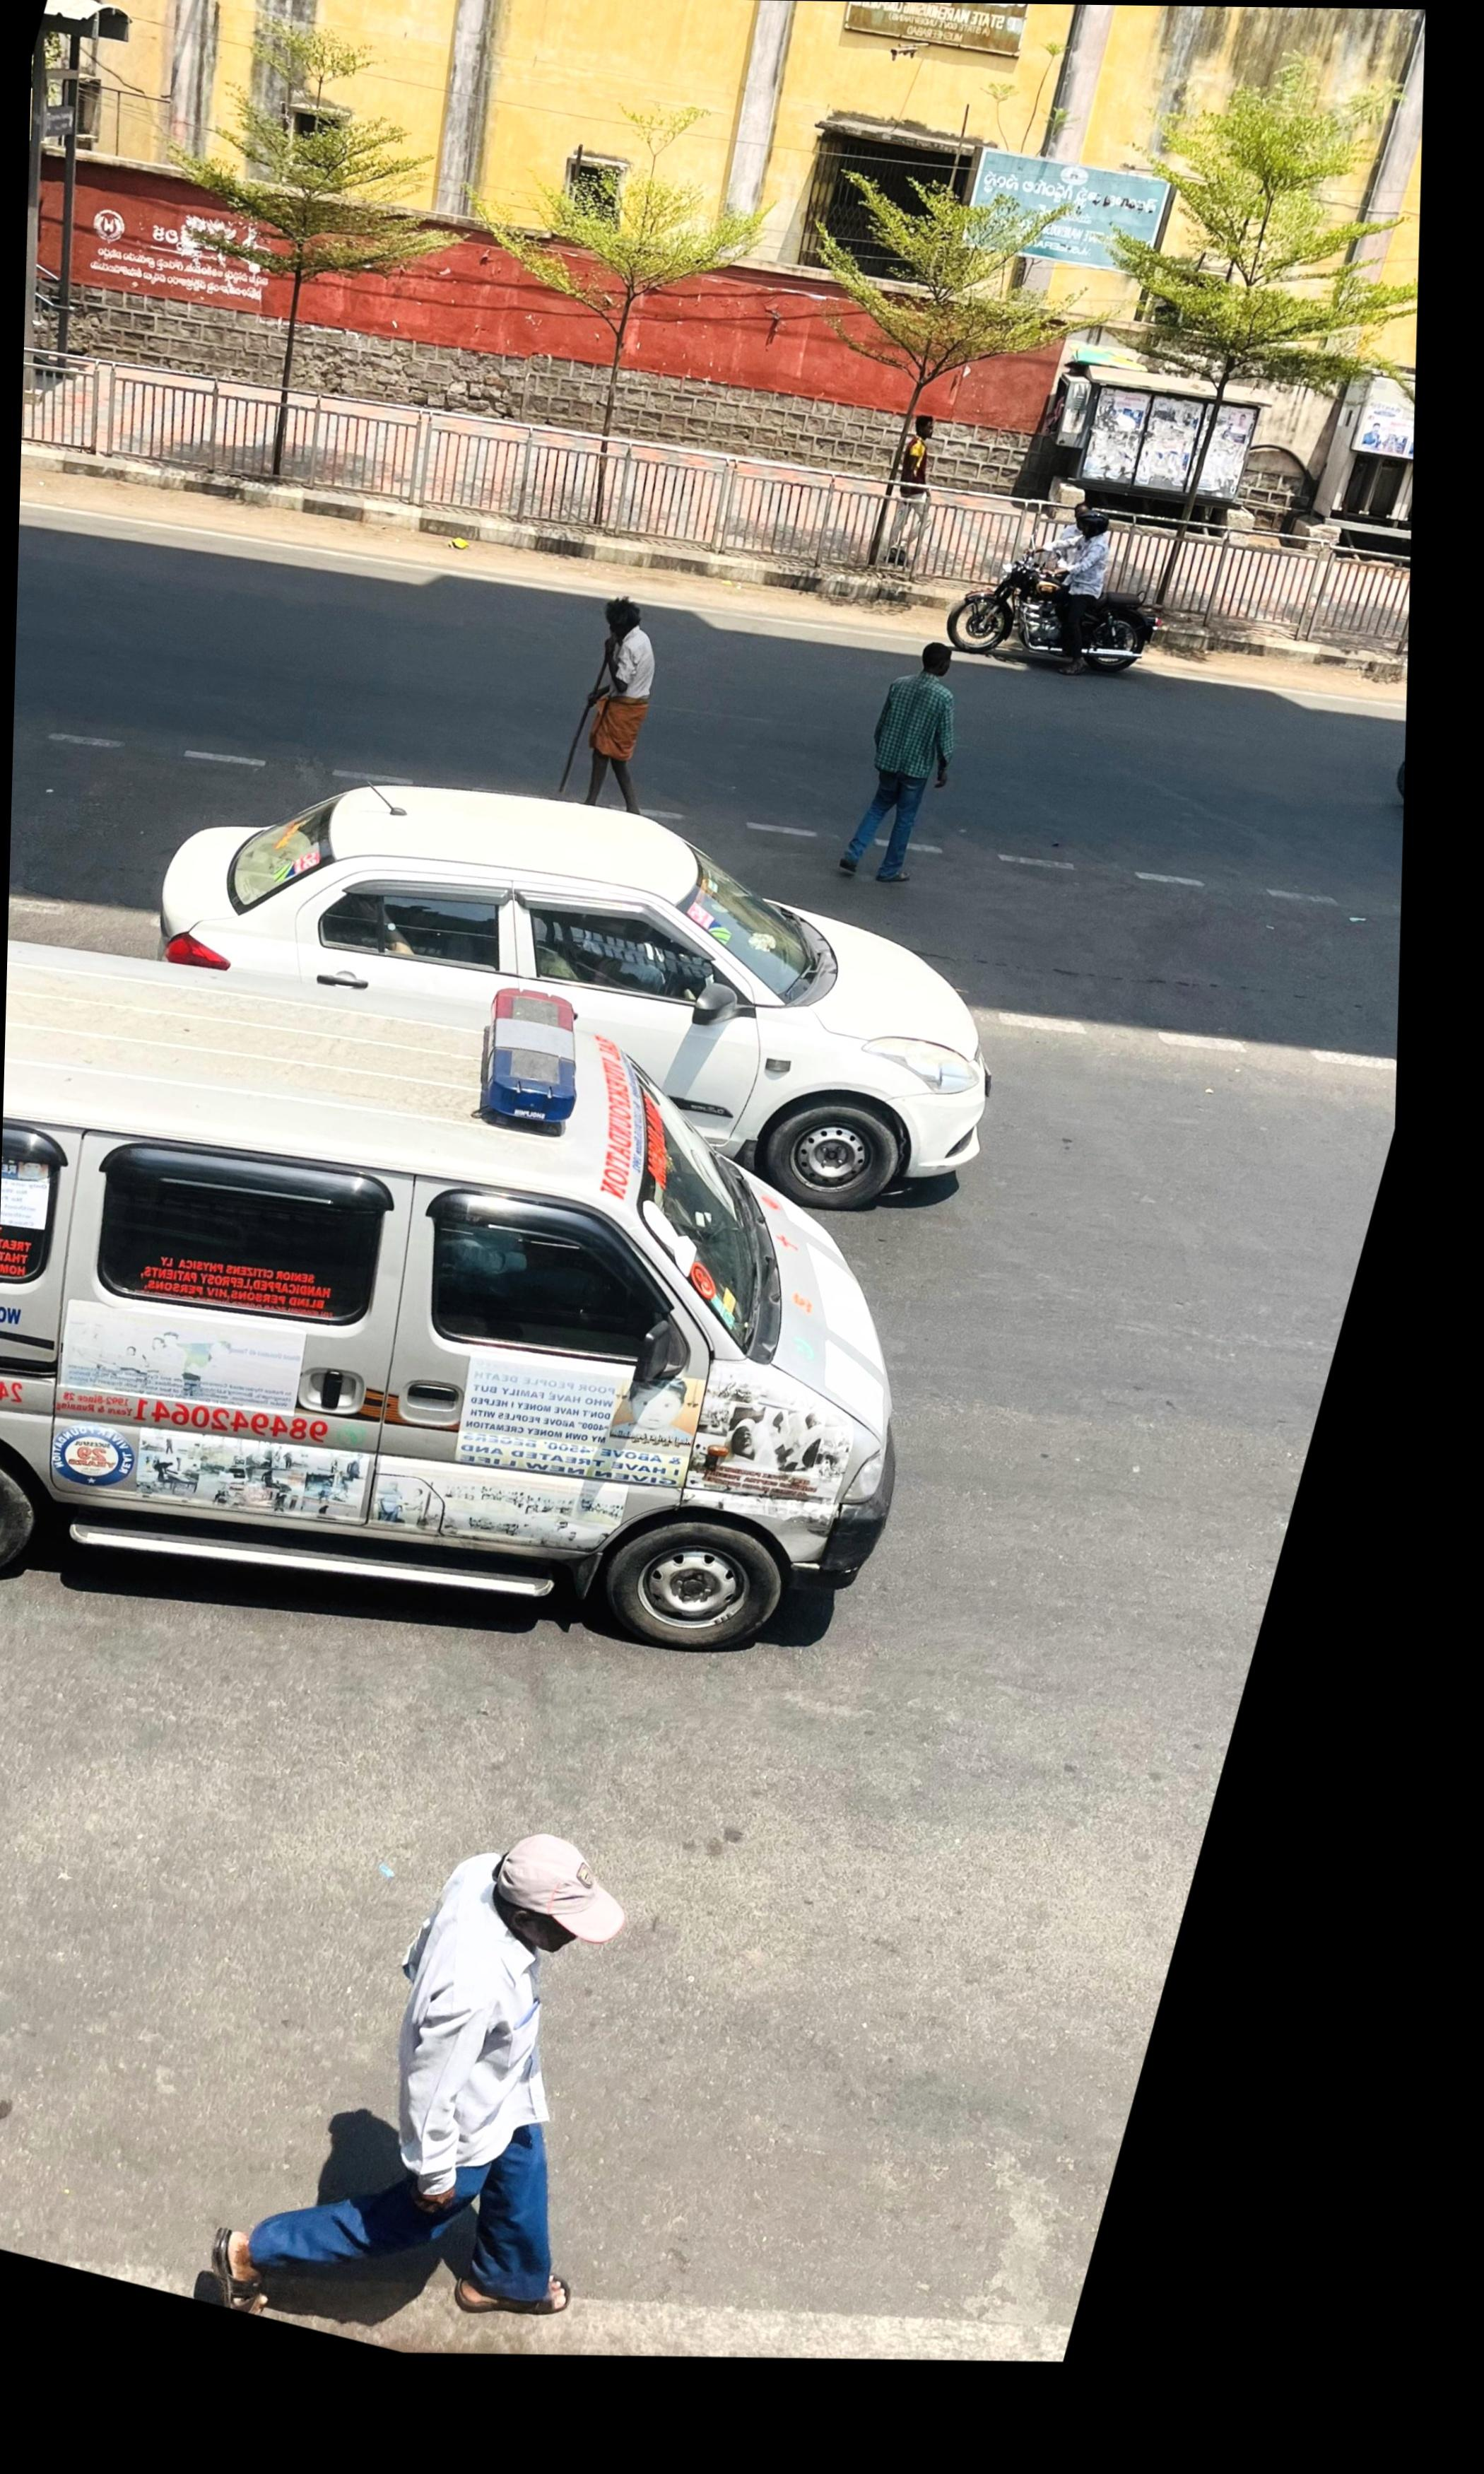ambulance: (0, 944, 896, 1652)
